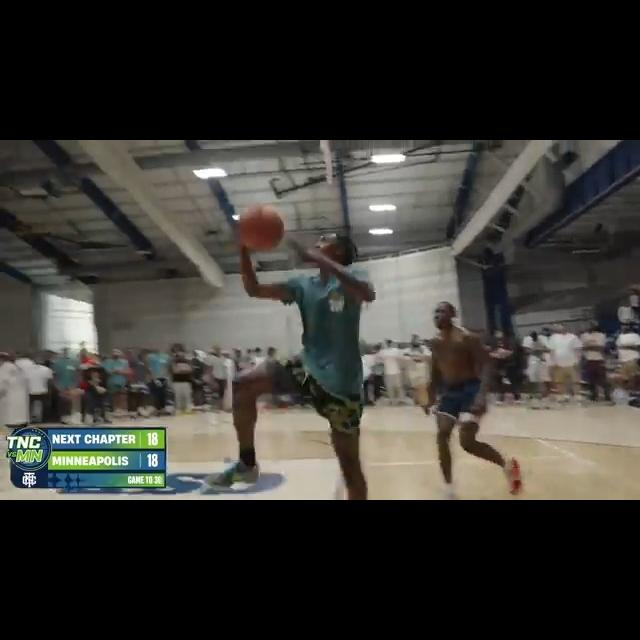basketball: (237, 203, 284, 252)
